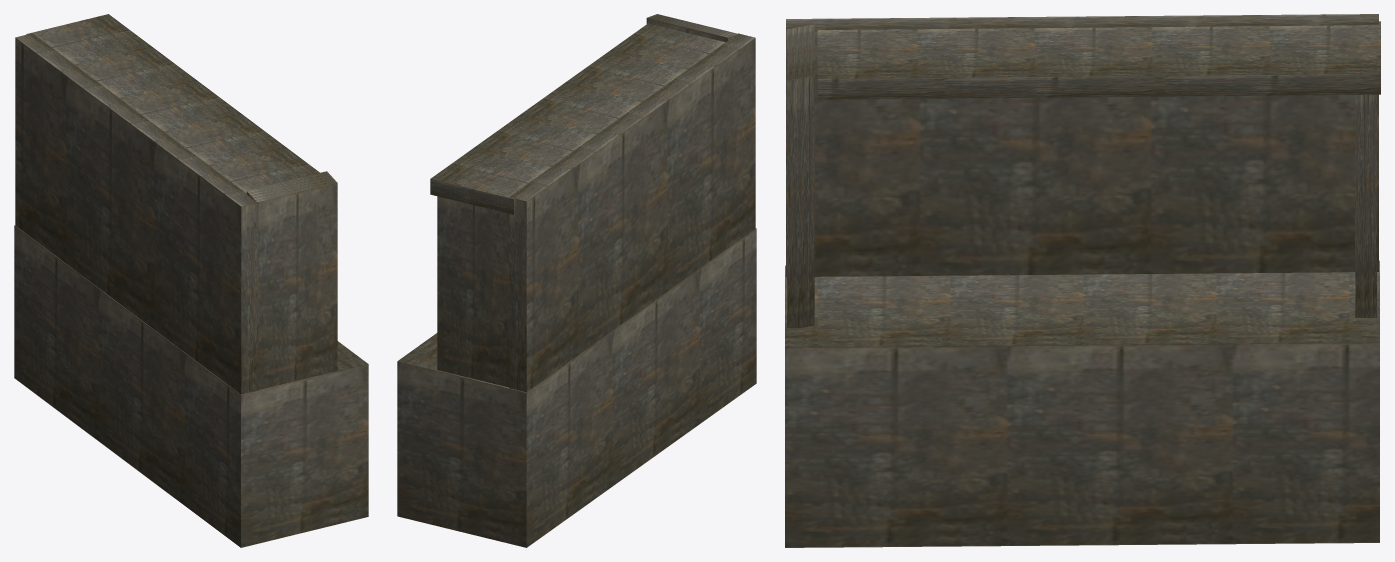
The model's file is cabinet.glb.
The picture shows the model from 3 angles, left to right: view 1: azimuth 30°, elevation 25°; view 2: azimuth 150°, elevation 25°; view 3: azimuth 270°, elevation 25°; orthographic projection. The views are drawn at different scales.
Parts seen in each view (by area): view 1: cabinet.ms3d.mo; view 2: cabinet.ms3d.mo; view 3: cabinet.ms3d.mo.
Part boxes in pixels (x1,y1,x2,y2): cabinet.ms3d.mo: (14, 14, 368, 547); cabinet.ms3d.mo: (397, 14, 756, 547); cabinet.ms3d.mo: (785, 14, 1380, 547).
Size of the model in its own units: 26 by 67.14 by 80.11.
1 material, 1 textured.
